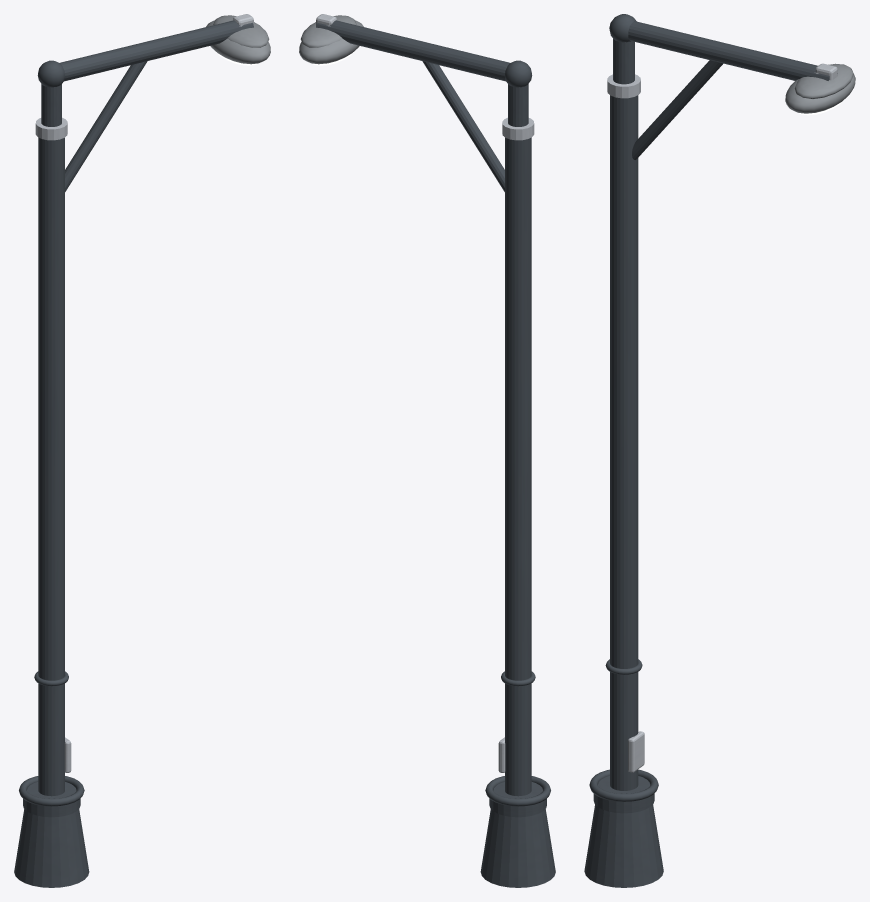
The model's file is prop_streetlight.glb.
The picture shows the model from 3 angles, left to right: view 1: azimuth 30°, elevation 25°; view 2: azimuth 150°, elevation 25°; view 3: azimuth 330°, elevation 25°; orthographic projection. The views are drawn at different scales.
Parts seen in each view (by area): view 1: prop_streetlight_column, prop_streetlight_plinth, prop_streetlight_arm_reach, prop_streetlight_arm_brace, prop_streetlight_base_collar, prop_streetlight_head_housing, prop_streetlight_base_bead, prop_streetlight_arm_stub, prop_streetlight_head_visor, prop_streetlight_arm_elbow, prop_streetlight_arm_clamp; view 2: prop_streetlight_column, prop_streetlight_plinth, prop_streetlight_arm_reach, prop_streetlight_arm_brace, prop_streetlight_base_collar, prop_streetlight_head_housing, prop_streetlight_base_bead, prop_streetlight_arm_stub, prop_streetlight_head_visor, prop_streetlight_arm_elbow, prop_streetlight_arm_clamp; view 3: prop_streetlight_column, prop_streetlight_plinth, prop_streetlight_arm_reach, prop_streetlight_arm_brace, prop_streetlight_head_visor, prop_streetlight_base_collar, prop_streetlight_head_housing, prop_streetlight_base_bead, prop_streetlight_arm_stub, prop_streetlight_access_hatch, prop_streetlight_arm_clamp.
Boxes of the visible parts, left/top/right/bottom form: prop_streetlight_column: left=38, top=137, right=64, bottom=796; prop_streetlight_plinth: left=14, top=809, right=89, bottom=887; prop_streetlight_arm_reach: left=60, top=20, right=253, bottom=81; prop_streetlight_arm_brace: left=65, top=61, right=147, bottom=191; prop_streetlight_base_collar: left=23, top=782, right=80, bottom=817; prop_streetlight_head_housing: left=206, top=20, right=270, bottom=64; prop_streetlight_base_bead: left=19, top=776, right=84, bottom=806; prop_streetlight_arm_stub: left=41, top=84, right=61, bottom=126; prop_streetlight_head_visor: left=213, top=15, right=269, bottom=47; prop_streetlight_arm_elbow: left=37, top=60, right=65, bottom=87; prop_streetlight_arm_clamp: left=35, top=117, right=67, bottom=140; prop_streetlight_column: left=505, top=137, right=531, bottom=796; prop_streetlight_plinth: left=480, top=809, right=555, bottom=887; prop_streetlight_arm_reach: left=316, top=20, right=509, bottom=81; prop_streetlight_arm_brace: left=422, top=61, right=504, bottom=191; prop_streetlight_base_collar: left=489, top=782, right=546, bottom=817; prop_streetlight_head_housing: left=299, top=20, right=363, bottom=64; prop_streetlight_base_bead: left=485, top=776, right=550, bottom=806; prop_streetlight_arm_stub: left=508, top=84, right=528, bottom=126; prop_streetlight_head_visor: left=300, top=15, right=356, bottom=47; prop_streetlight_arm_elbow: left=504, top=60, right=532, bottom=87; prop_streetlight_arm_clamp: left=502, top=117, right=534, bottom=140; prop_streetlight_column: left=610, top=95, right=638, bottom=790; prop_streetlight_plinth: left=584, top=804, right=663, bottom=887; prop_streetlight_arm_reach: left=628, top=21, right=837, bottom=80; prop_streetlight_arm_brace: left=632, top=60, right=723, bottom=159; prop_streetlight_head_visor: left=794, top=63, right=853, bottom=98; prop_streetlight_base_collar: left=593, top=776, right=654, bottom=813; prop_streetlight_head_housing: left=785, top=74, right=855, bottom=113; prop_streetlight_base_bead: left=589, top=769, right=658, bottom=801; prop_streetlight_arm_stub: left=613, top=39, right=634, bottom=84; prop_streetlight_access_hatch: left=628, top=731, right=644, bottom=772; prop_streetlight_arm_clamp: left=607, top=74, right=640, bottom=98.
Size of the model in its own units: 2.08 by 6.66 by 0.72.
Materials: 4 (3 with a texture image).
